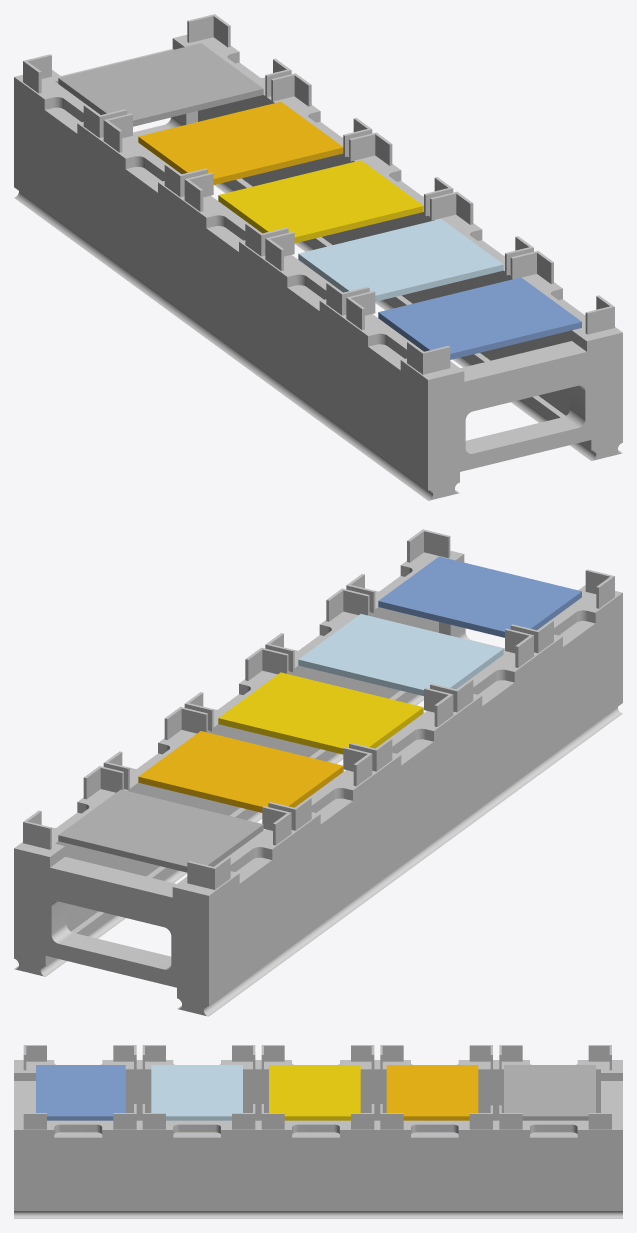
File: PLT_CAR_L5AC_A00.gltf
The picture shows the model from 3 angles, top to bottom: view 1: azimuth 30°, elevation 25°; view 2: azimuth 150°, elevation 25°; view 3: azimuth 270°, elevation 25°; orthographic projection. The views are drawn at different scales.
Parts seen in each view (by area): view 1: plate_carrier (5); view 2: plate_carrier (5); view 3: plate_carrier (5).
Boxes of the visible parts, x1,y1,x2,y2 form: plate_carrier (5): (14,14,622,500); plate_carrier (5): (14,529,622,1016); plate_carrier (5): (14,1045,622,1218).
Bounding box in the file's own units: 0.27 × 0.188 × 0.994.
